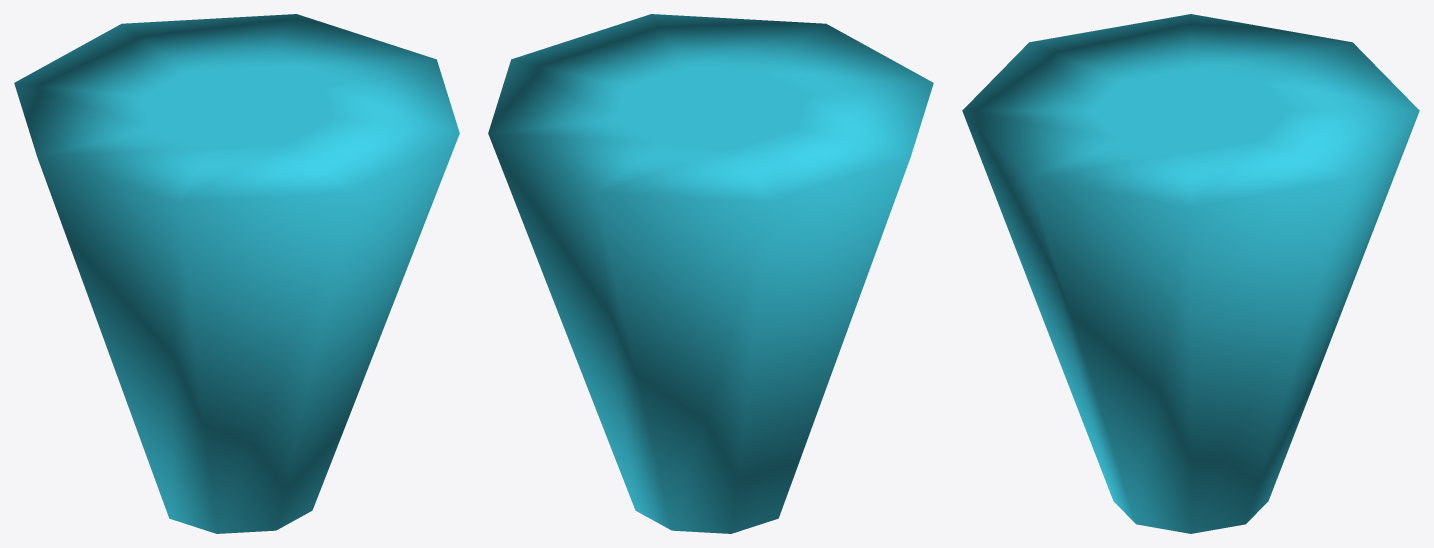
File: Holograma.fbx
The picture shows the model from 3 angles, left to right: view 1: azimuth 30°, elevation 25°; view 2: azimuth 150°, elevation 25°; view 3: azimuth 270°, elevation 25°; orthographic projection.
Visible parts, largest first — view 1: Holograms; view 2: Holograms; view 3: Holograms.
Part boxes in pixels (box(x1,y1,x2,y2)): Holograms: box(14, 14, 459, 533); Holograms: box(488, 14, 933, 533); Holograms: box(962, 14, 1419, 533).
Bounding box in the file's own units: 157 × 148 × 157.
